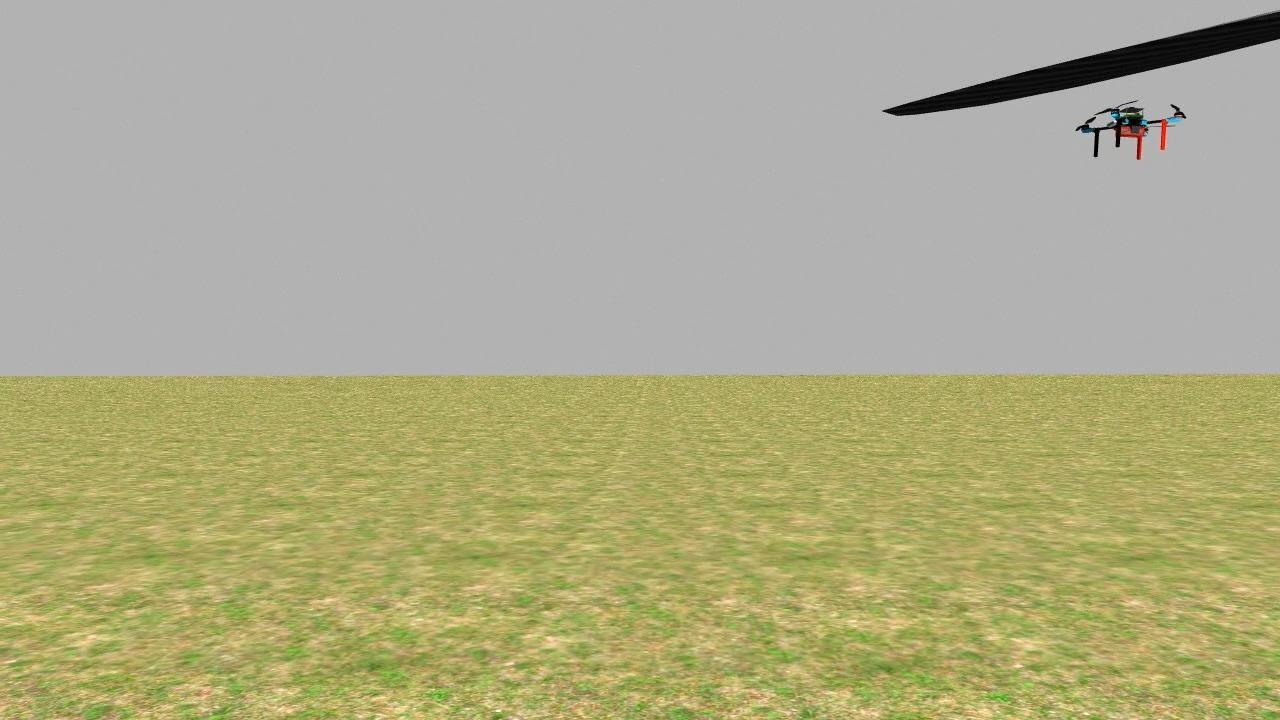UAV: (1077, 99, 1183, 168)
